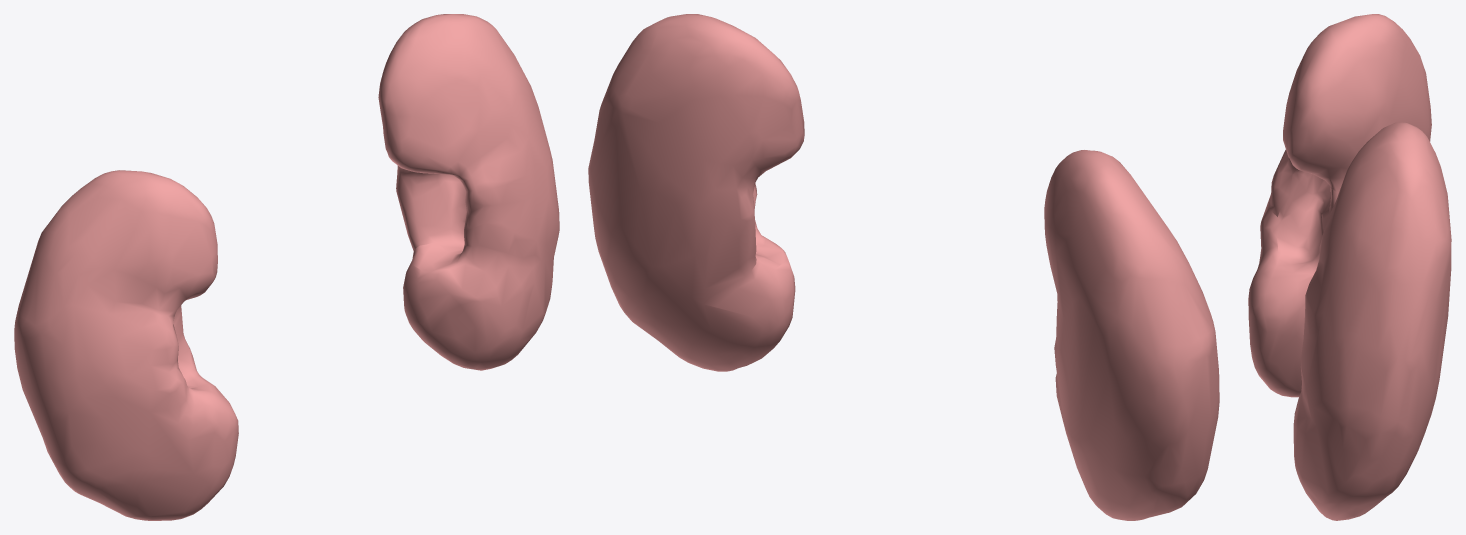
File: kidney.glb
3 views of the same model, side by side, from view 1: azimuth 30°, elevation 25°; view 2: azimuth 150°, elevation 25°; view 3: azimuth 270°, elevation 25° (orthographic). The views are drawn at different scales.
Visible parts, largest first — view 1: kidney; view 2: kidney; view 3: kidney.
Part boxes in pixels (left/top/right/bottom): kidney: left=14, top=14, right=559, bottom=520; kidney: left=588, top=14, right=1219, bottom=520; kidney: left=1248, top=14, right=1451, bottom=520.
Size of the model in its own units: 0.178 by 0.1236 by 0.0521.
